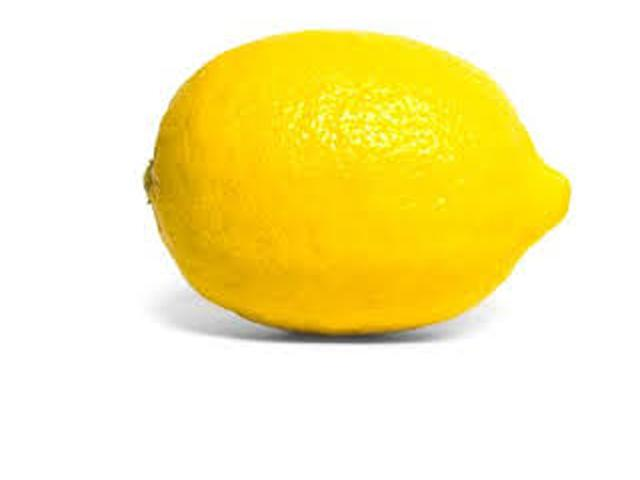lemon: (120, 19, 590, 337)
